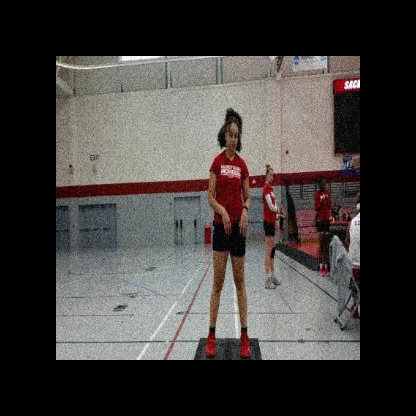lateral_flexion_normal: (204, 106, 255, 360)
stance_width_broad: (204, 147, 254, 360)
